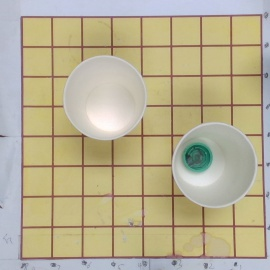cup: (62, 55, 147, 141)
cup_green: (171, 122, 258, 210)
